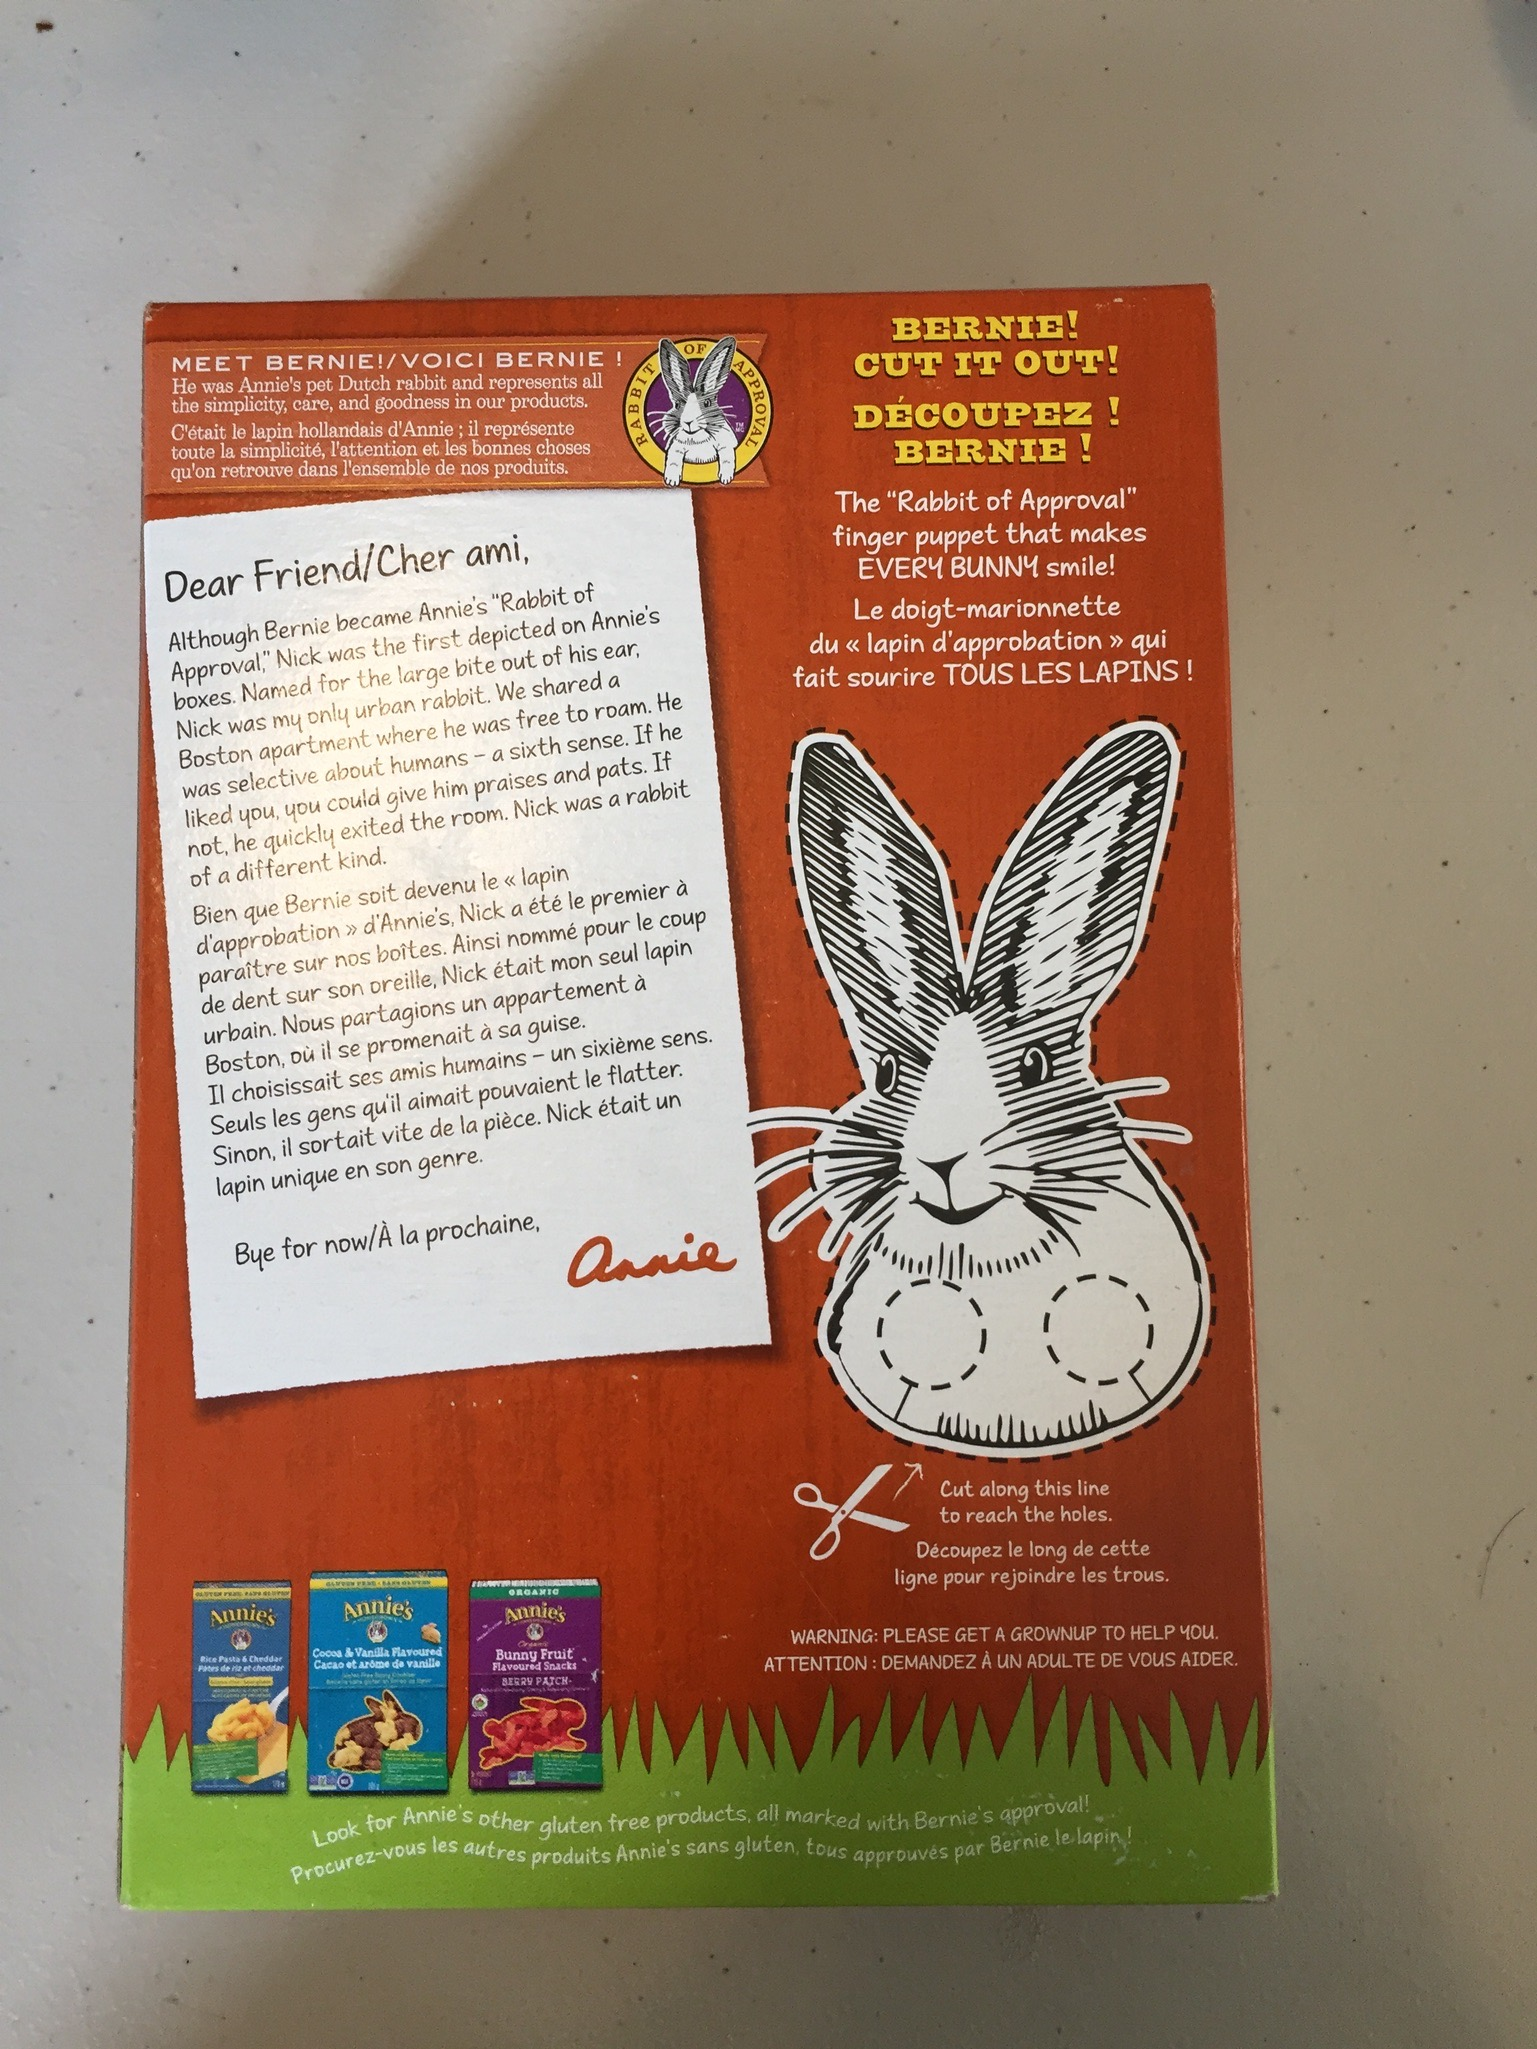annies_snickerdoodle_cinnamon_sugar: (160, 313, 1235, 1870)
